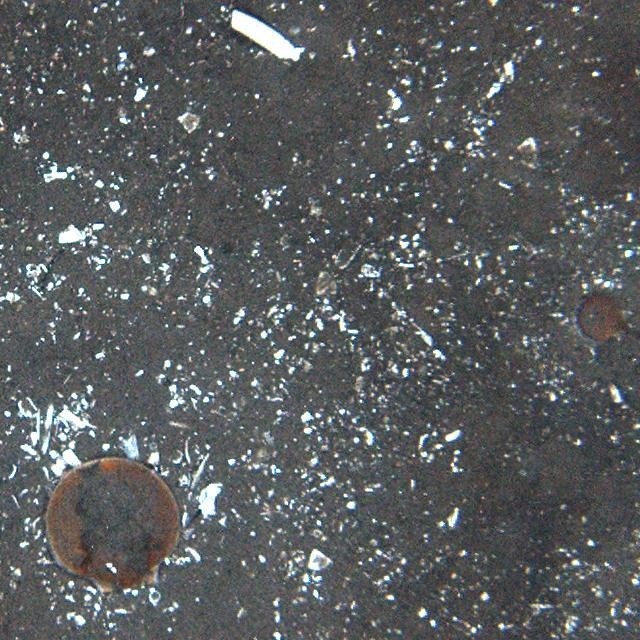scallop: (45, 457, 187, 594), (578, 286, 626, 343)
